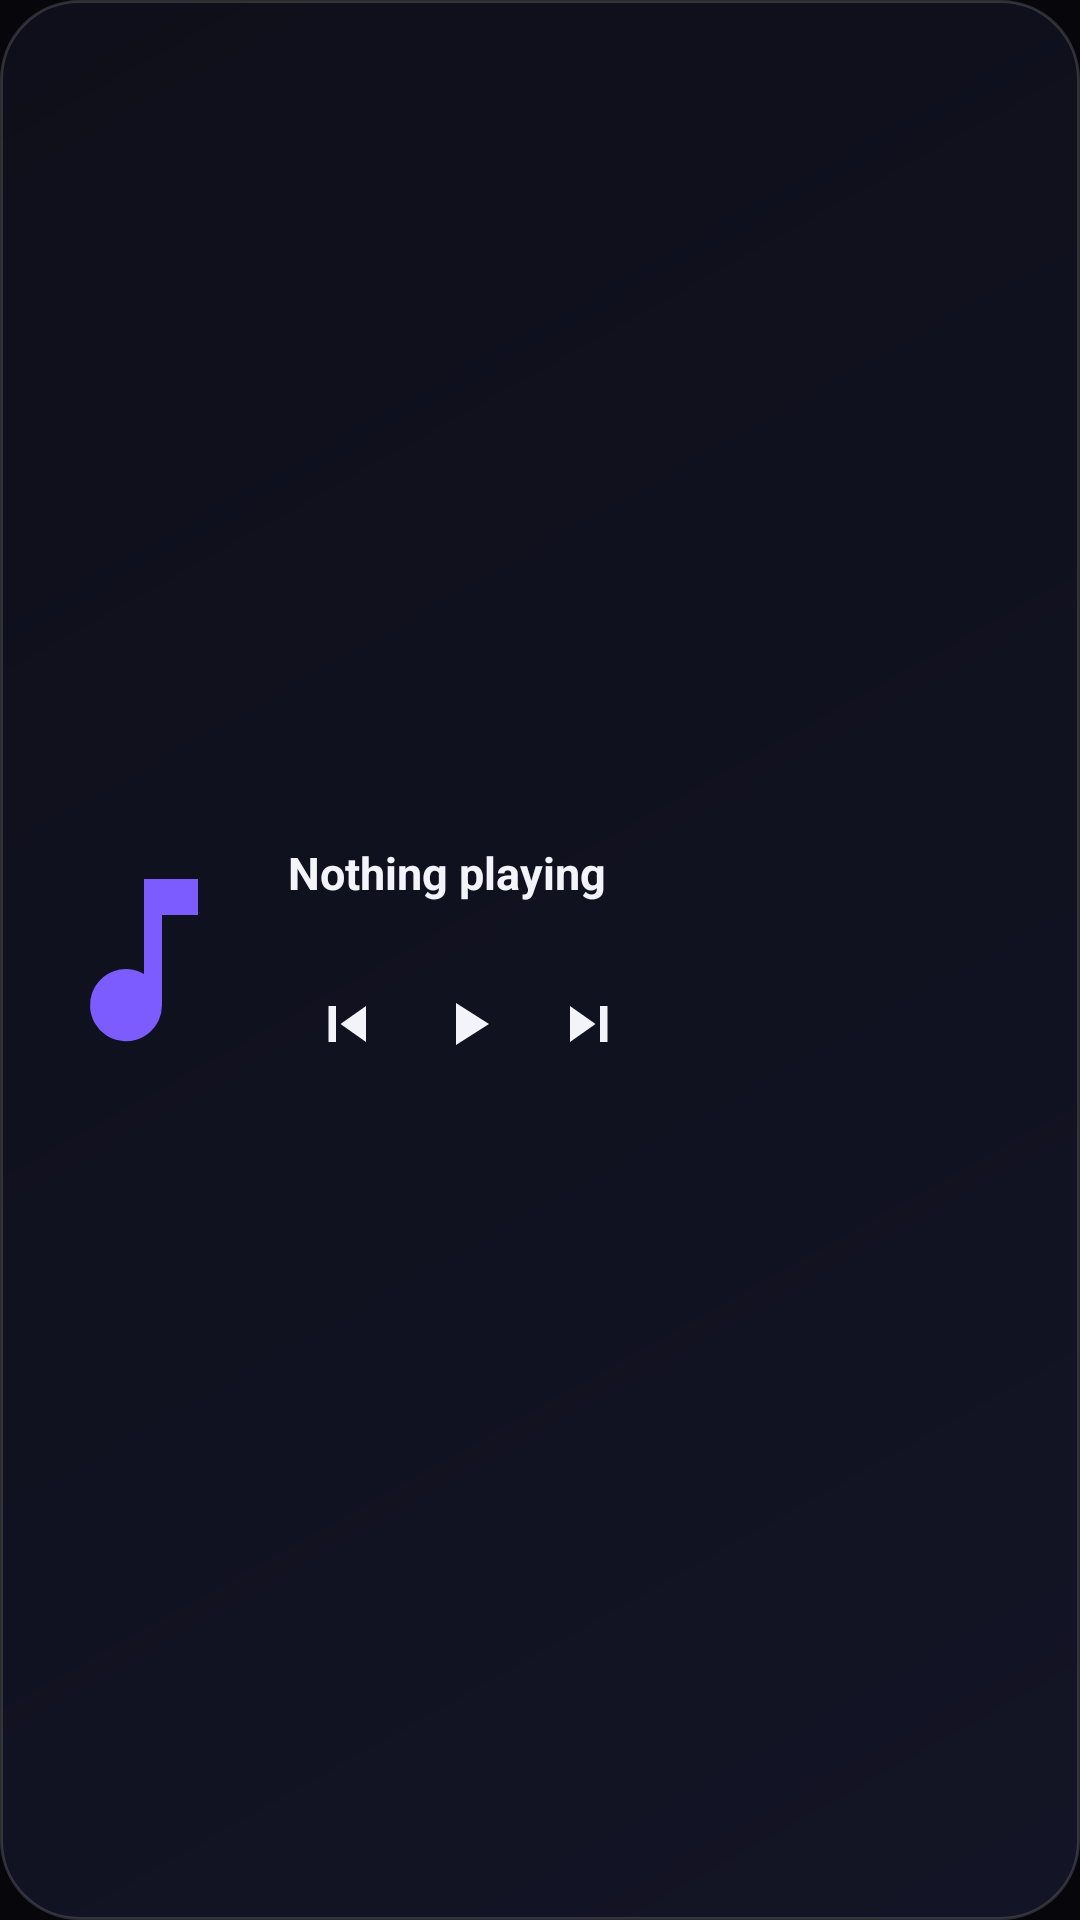

Locate icon controls on the screen. Image size 1080px x 1920px, boxes as rect(x1, y1, x2, y2).
Album artwork: rect(90, 879, 198, 1042)
Next track: rect(570, 1006, 608, 1042)
Play or pause: rect(456, 1003, 489, 1045)
Previous track: rect(328, 1006, 366, 1042)
